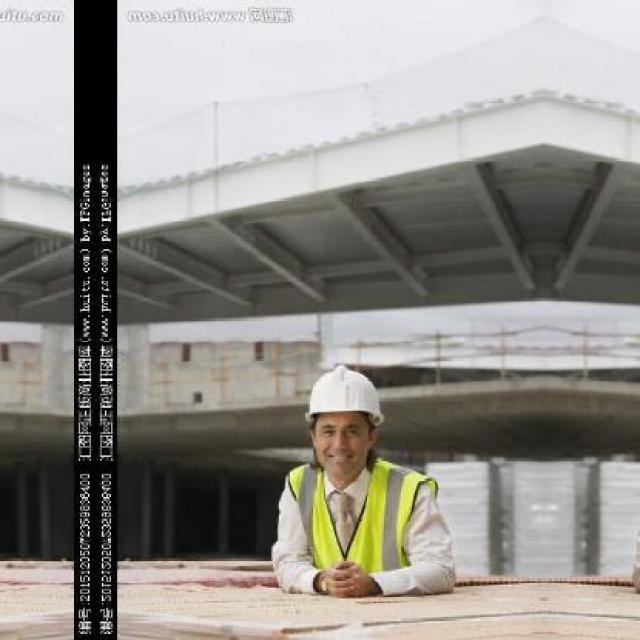reflective_jacket: (274, 456, 451, 598)
safety_helmet: (294, 360, 393, 434)
